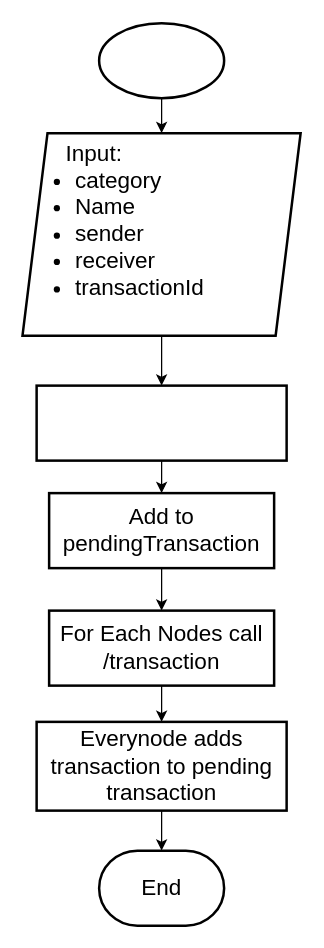
This 324x948 diagram has some shape labels left out. The centre of each missing label's shape, as x and y in pixels:
"createNewTransaction" goes at point (161, 422).
"Start" goes at point (161, 60).
